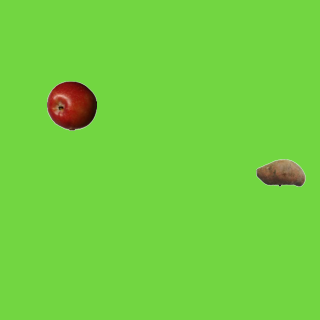Apple Braeburn: (46, 80, 96, 130)
Potato Sweet: (255, 147, 305, 197)
